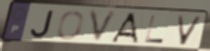A: (109, 12, 140, 45)
J: (29, 9, 56, 39)
L: (144, 14, 166, 45)
O: (55, 10, 86, 41)
V: (88, 9, 120, 44), (175, 15, 205, 47)
